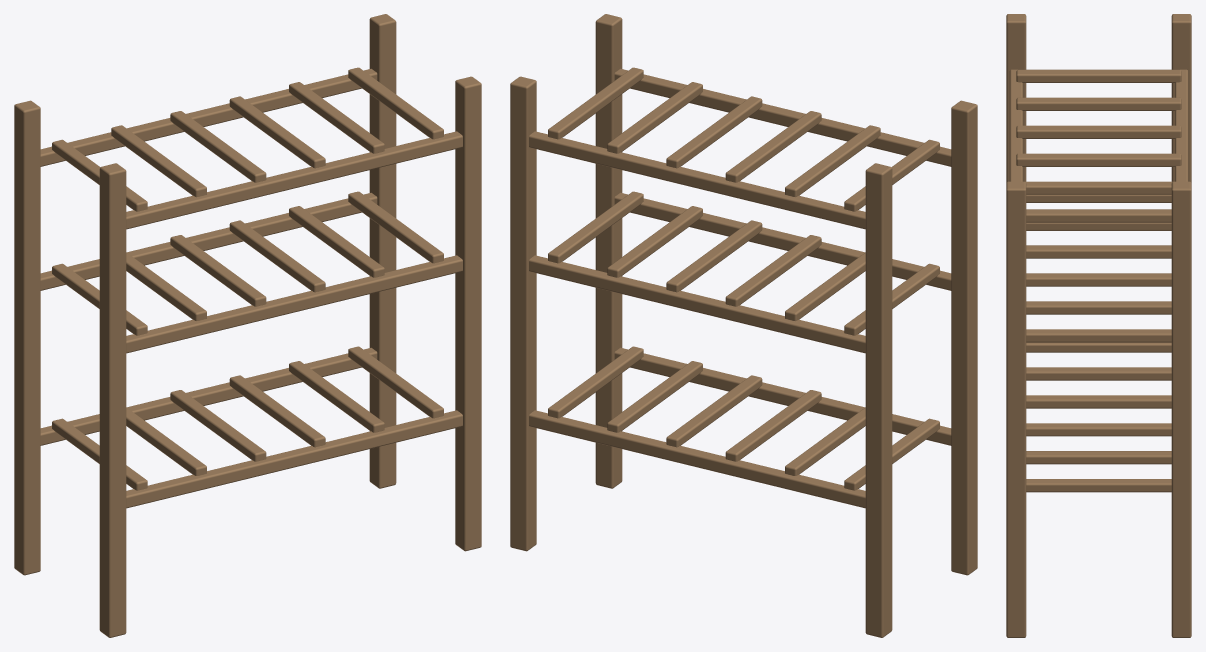
Rendered from marquetry-and-veneer-inlay-workshop-panel-drying-comb--edede8e4__39125.glb.
3 renders of one model, left to right at view 1: azimuth 30°, elevation 25°; view 2: azimuth 150°, elevation 25°; view 3: azimuth 270°, elevation 25°, orthographic. The views are drawn at different scales.
Visible parts, largest first — view 1: panel-drying-comb-rack; view 2: panel-drying-comb-rack; view 3: panel-drying-comb-rack.
Boxes of the visible parts, left/top/right/bottom form: panel-drying-comb-rack: left=14, top=14, right=481, bottom=637; panel-drying-comb-rack: left=510, top=14, right=977, bottom=637; panel-drying-comb-rack: left=1006, top=14, right=1191, bottom=637.
Bounding box in the file's own units: 1.26 × 1.5 × 0.56.
